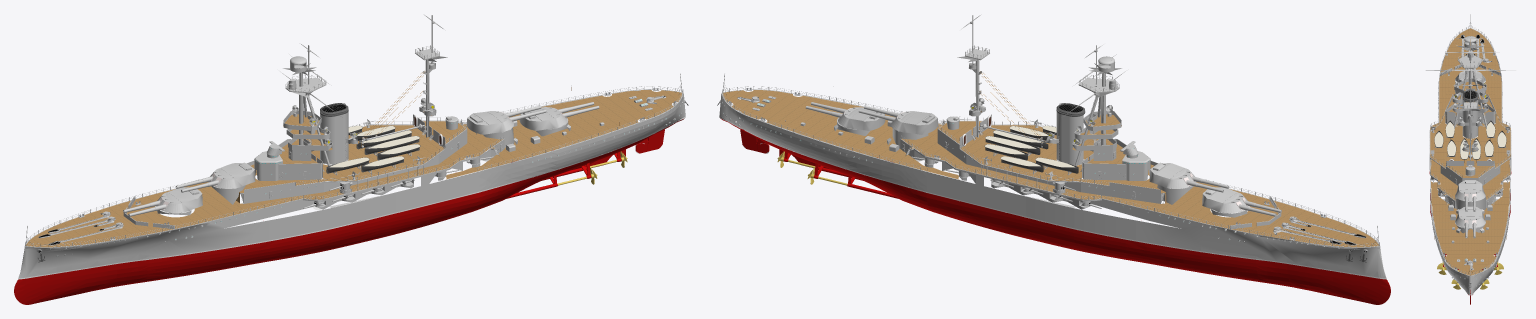
The model's file is hms_revenge_1915-maximum-compressed.glb.
The picture shows the model from 3 angles, left to right: view 1: azimuth 30°, elevation 25°; view 2: azimuth 150°, elevation 25°; view 3: azimuth 270°, elevation 25°; orthographic projection. The views are drawn at different scales.
Visible parts, largest first — view 1: Material2 (×15), Material3 (×2); view 2: Material2 (×15), Material3 (×2); view 3: Material2 (×16), Material3 (×5).
Part boxes in pixels (box(x1,y1,x2,y2)): Material2 (×15): box(14, 15, 685, 304); Material3 (×2): box(28, 90, 681, 245); Material2 (×15): box(719, 15, 1390, 304); Material3 (×2): box(723, 76, 1376, 245); Material2 (×16): box(1426, 26, 1515, 294); Material3 (×5): box(1434, 22, 1506, 289).
Bounding box in the file's own units: 7664 × 2081 × 1338.
Materials: 25 (3 with a texture image).
